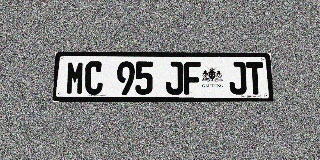5: (135, 61, 153, 95)
9: (117, 61, 135, 95)
C: (84, 61, 103, 95)
F: (183, 62, 201, 95)
J: (228, 62, 247, 94), (165, 62, 183, 95)
M: (66, 61, 85, 95)
T: (246, 62, 264, 94)
